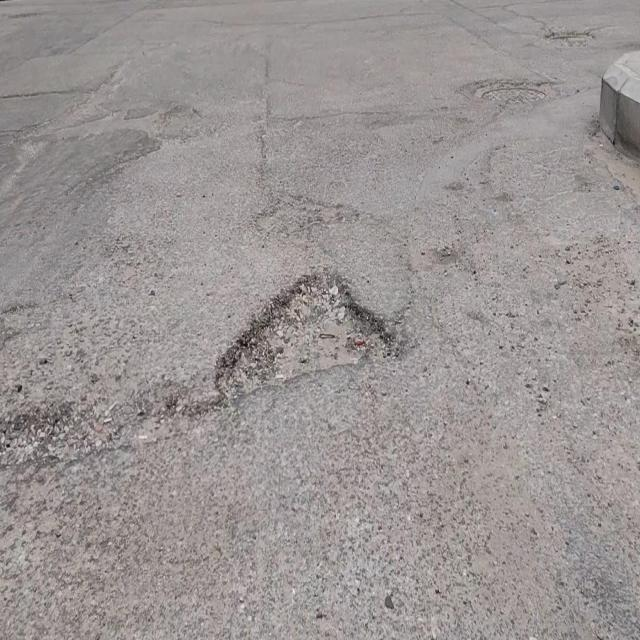Potholes: (212, 264, 393, 413)
